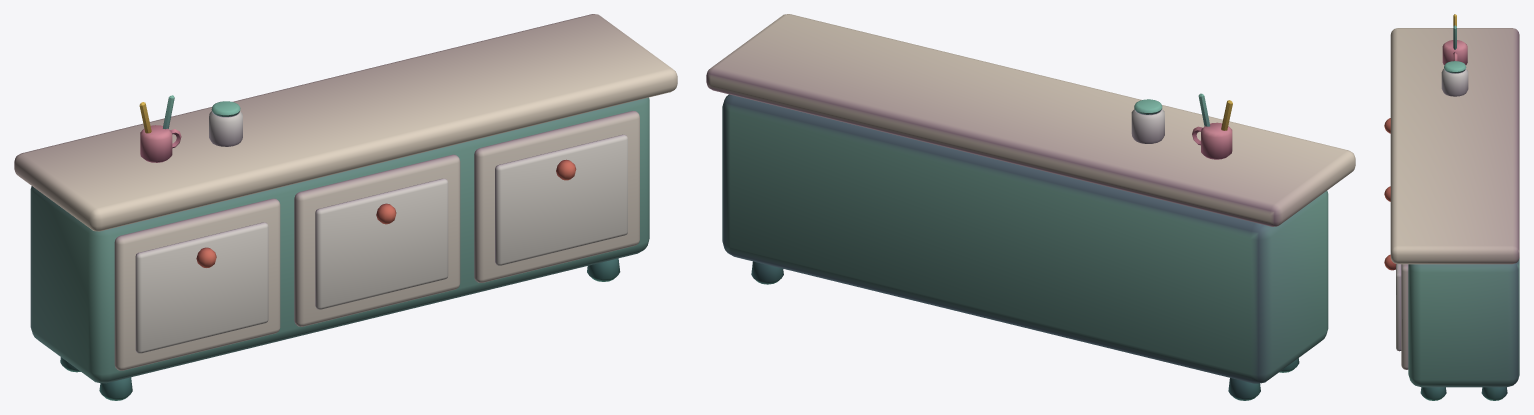
File: cabinet_classic.glb
3 renders of one model, left to right at view 1: azimuth 30°, elevation 25°; view 2: azimuth 150°, elevation 25°; view 3: azimuth 270°, elevation 25°, orthographic. The views are drawn at different scales.
Parts seen in each view (by area): view 1: cabinet_classic; view 2: cabinet_classic; view 3: cabinet_classic.
Part boxes in pixels (box(x1,y1,x2,y2)): cabinet_classic: box(14, 14, 677, 400); cabinet_classic: box(706, 14, 1355, 400); cabinet_classic: box(1384, 14, 1519, 400).
Bounding box in the file's own units: 2.94 × 1.31 × 0.7549.
